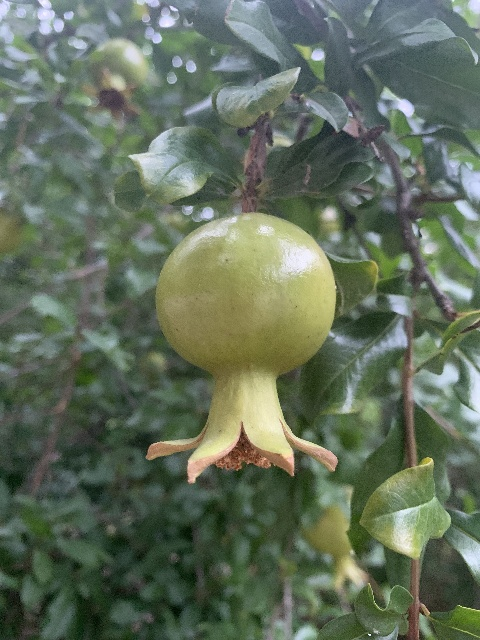mid-growth: (144, 210, 340, 484), (80, 38, 148, 122), (300, 507, 368, 590)
